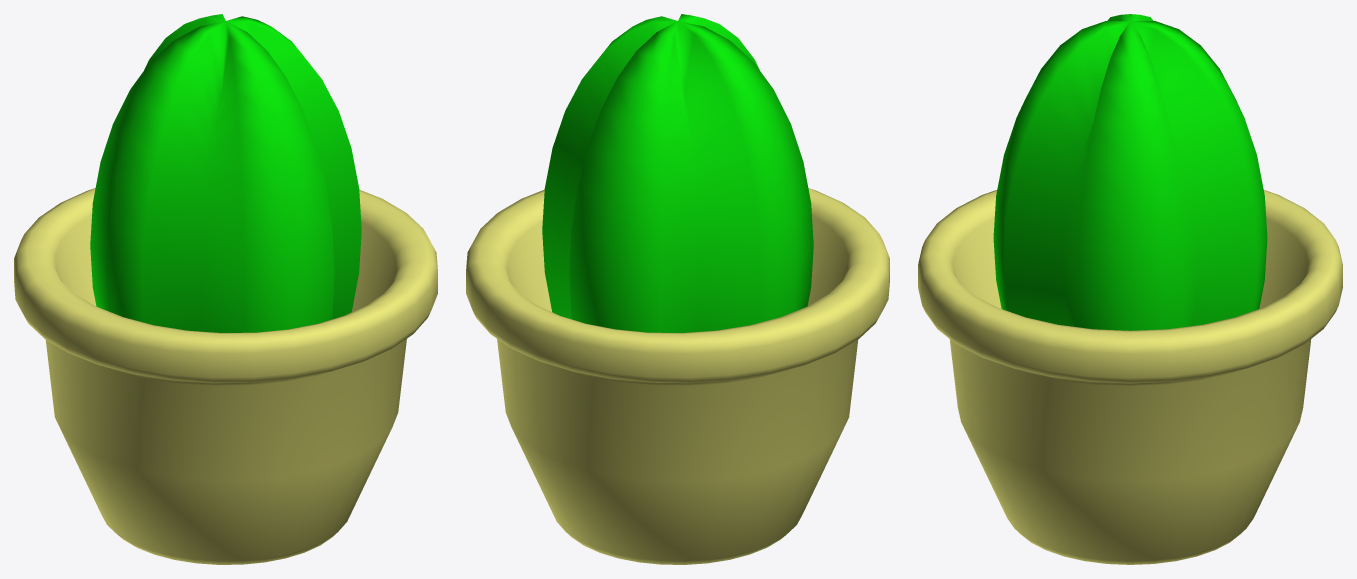
The model's file is plant.fbx.
3 renders of one model, left to right at view 1: azimuth 30°, elevation 25°; view 2: azimuth 150°, elevation 25°; view 3: azimuth 270°, elevation 25°, orthographic.
Parts seen in each view (by area): view 1: Plant; view 2: Plant; view 3: Plant.
Part boxes in pixels (left/top/right/bottom): Plant: left=14, top=14, right=437, bottom=564; Plant: left=466, top=14, right=889, bottom=564; Plant: left=918, top=14, right=1342, bottom=564.
Bounding box in the file's own units: 16.8 × 21.67 × 16.8.
